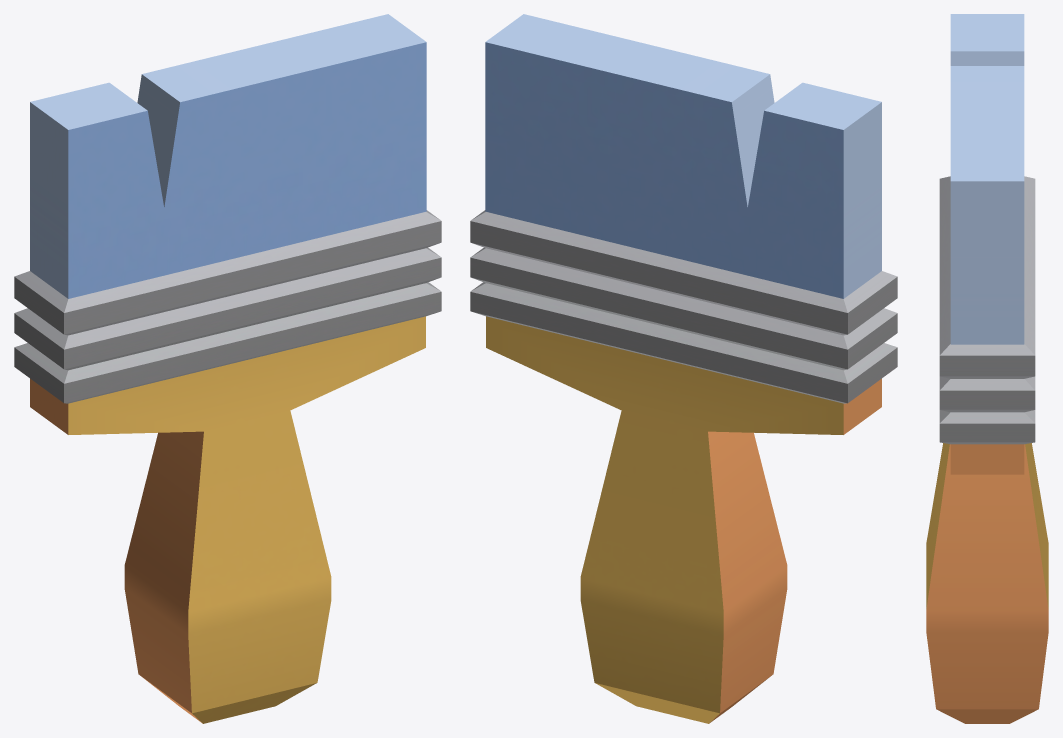
Rendered from SM_BigBrush.fbx.
3 renders of one model, left to right at view 1: azimuth 30°, elevation 25°; view 2: azimuth 150°, elevation 25°; view 3: azimuth 270°, elevation 25°, orthographic. The views are drawn at different scales.
Parts seen in each view (by area): view 1: SM_BigBrush; view 2: SM_BigBrush; view 3: SM_BigBrush.
Part boxes in pixels (x1,y1,x2,y2): SM_BigBrush: (14,14,441,723); SM_BigBrush: (470,14,897,723); SM_BigBrush: (926,14,1048,723).
Bounding box in the file's own units: 16.35 × 26.26 × 4.78.
